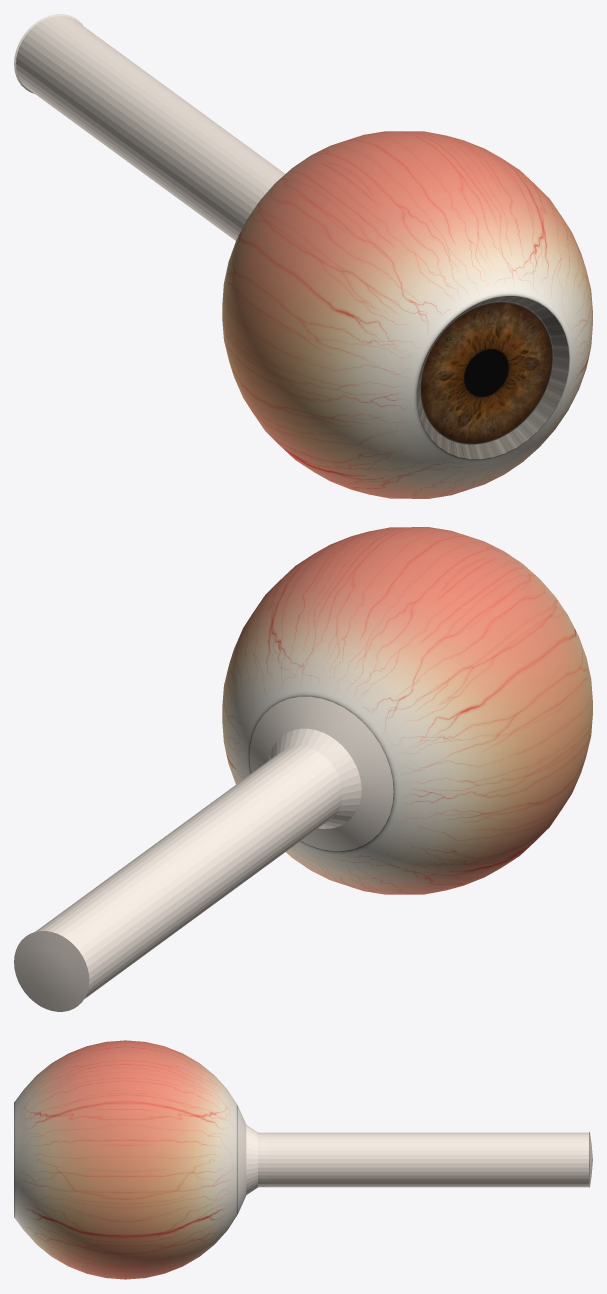
The model's file is eye_01.FBX.
3 views of the same model, one above another, from view 1: azimuth 30°, elevation 25°; view 2: azimuth 150°, elevation 25°; view 3: azimuth 270°, elevation 25° (orthographic). The views are drawn at different scales.
Parts seen in each view (by area): view 1: 鞏膜; view 2: 鞏膜; view 3: 鞏膜.
Boxes of the visible parts, x1,y1,x2,y2 form: 鞏膜: (14, 14, 592, 498); 鞏膜: (14, 527, 592, 1011); 鞏膜: (14, 1040, 592, 1279).
Size of the model in its own units: 64.79 by 64.79 by 157.
